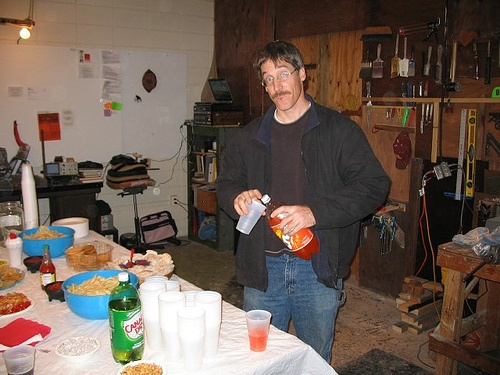head: (253, 43, 307, 112)
person: (212, 43, 392, 368)
